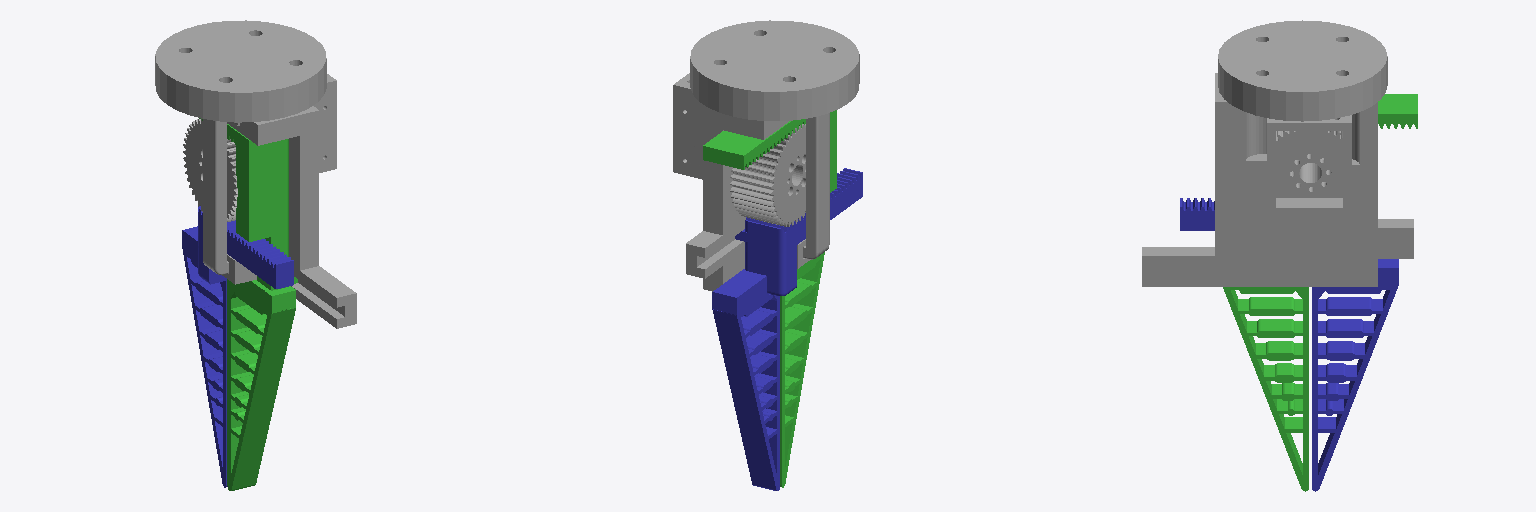
URDF robot description (lite6):
<?xml version="1.0"?>
<robot name="lite6">

    <material name="White">
      <color rgba="1.0 1.0 1.0 1.0"/>
    </material>

    <material name="Silver">
      <color rgba="0.753 0.753 0.753 1.0"/>
    </material>

    <link name="link_base">
      <inertial>
        <origin
          xyz="-0.00829544579053192 3.26357432323433E-05 0.0631194584987089"
          rpy="0 0 0" />
        <mass
          value="2.11" />
        <inertia
          ixx="0"
          ixy="0"
          ixz="0"
          iyy="0"
          iyz="0"
          izz="0" />
      </inertial>
      <visual>
        <origin
          xyz="0 0 0"
          rpy="0 0 0" />
        <geometry>
          <mesh filename="meshes/lite6/visual/link_base.stl"/>
        </geometry>
        <material name="White" />
      </visual>
      <collision>
        <origin
          xyz="0 0 0"
          rpy="0 0 0" />
        <geometry>
          <mesh filename="meshes/lite6/collision/link_base.stl"/>
        </geometry>
      </collision>
    </link>
    <link name="link1">
      <inertial>
        <origin
          xyz="-0.00036 0.042 -0.0025"
          rpy="0 0 0" />
        <mass
          value="1.411" />
        <inertia
          ixx="1.45164E-03"
          ixy="1.24E-05"
          ixz="-6.7E-06"
          iyy="8.873E-04"
          iyz="1.255E-04"
          izz="1.31993E-03" />
      </inertial>
      <visual>
        <origin
          xyz="0 0 0"
          rpy="0 0 0" />
        <geometry>
          <mesh filename="meshes/lite6/visual/link1.stl"/>
        </geometry>
        <material name="White" />
      </visual>
      <collision>
        <origin
          xyz="0 0 0"
          rpy="0 0 0" />
        <geometry>
          <mesh filename="meshes/lite6/collision/link1.stl"/>
        </geometry>
      </collision>
    </link>
    <joint name="joint1" type="revolute">
      <origin
        xyz="0 0 0.2433"
        rpy="0 0 0" />
      <parent
        link="link_base" />
      <child
        link="link1" />
      <axis
        xyz="0 0 1" />
      <limit
        lower="-6.28"
        upper="6.28"
        effort="32.0"
        velocity="3.14"/>
      <dynamics damping="1.0" friction="1.0"/>
    </joint>
    <link name="link2">
      <inertial>
        <origin
          xyz="0.179 0.0 0.0584"
          rpy="0 0 0" />
        <mass
          value="1.34" />
        <inertia
          ixx="1.5854E-03"
          ixy="-6.766E-06"
          ixz="-1.15136E-03"
          iyy="5.6097E-03"
          iyz="1.14E-06"
          izz="4.85E-03" />
      </inertial>
      <visual>
        <origin
          xyz="0 0 0"
          rpy="0 0 0" />
        <geometry>
          <mesh filename="meshes/lite6/visual/link2.stl"/>
        </geometry>
        <material name="White" />
      </visual>
      <collision>
        <origin
          xyz="0 0 0"
          rpy="0 0 0" />
        <geometry>
          <mesh filename="meshes/lite6/collision/link2.stl"/>
        </geometry>
      </collision>
    </link>
    <joint name="joint2" type="revolute">
      <origin
        xyz="0 0 0"
        rpy="1.5708 -1.5708 3.1416" />
      <parent
        link="link1" />
      <child
        link="link2" />
      <axis
        xyz="0 0 1" />
      <limit
        lower="-2.61799"
        upper="2.61799"
        effort="32.0"
        velocity="3.14"/>
      <dynamics damping="1.0" friction="1.0"/>
    </joint>
    <link name="link3">
      <inertial>
        <origin
          xyz="0.072 -0.036 -0.001"
          rpy="0 0 0" />
        <mass
          value="0.953" />
        <inertia
          ixx="8.861E-04"
          ixy="-3.9287E-04"
          ixz="7.066E-05"
          iyy="1.5785E-03"
          iyz="-2.445E-05"
          izz="1.84677E-03" />
      </inertial>
      <visual>
        <origin
          xyz="0 0 0"
          rpy="0 0 0" />
        <geometry>
          <mesh filename="meshes/lite6/visual/link3.stl"/>
        </geometry>
        <material name="White" />
      </visual>
      <collision>
        <origin
          xyz="0 0 0"
          rpy="0 0 0" />
        <geometry>
          <mesh filename="meshes/lite6/collision/link3.stl"/>
        </geometry>
      </collision>
    </link>
    <joint name="joint3" type="revolute">
      <origin
        xyz="0.2 0 0"
        rpy="-3.1416 0 1.5708" />
      <parent
        link="link2" />
      <child
        link="link3" />
      <axis
        xyz="0 0 1" />
      <limit
        lower="-0.061087"
        upper="5.235988"
        effort="18.0"
        velocity="3.14"/>
      <dynamics damping="1.0" friction="1.0"/>
    </joint>
    <link name="link4">
      <inertial>
        <origin
          xyz="-0.002 -0.0285 -0.0813"
          rpy="0 0 0" />
        <mass
          value="1.284" />
        <inertia
          ixx="3.705E-03"
          ixy="-2.0E-06"
          ixz="7.17E-06"
          iyy="3.0455E-03"
          iyz="-9.3188E-04"
          izz="1.5413E-03" />
      </inertial>
      <visual>
        <origin
          xyz="0 0 0"
          rpy="0 0 0" />
        <geometry>
          <mesh filename="meshes/lite6/visual/link4.stl"/>
        </geometry>
        <material name="White" />
      </visual>
      <collision>
        <origin
          xyz="0 0 0"
          rpy="0 0 0" />
        <geometry>
          <mesh filename="meshes/lite6/collision/link4.stl"/>
        </geometry>
      </collision>
    </link>
    <joint name="joint4" type="revolute">
      <origin
        xyz="0.087 -0.2276 0"
        rpy="1.5708 0 0" />
      <parent
        link="link3" />
      <child
        link="link4" />
      <axis
        xyz="0 0 1" />
      <limit
        lower="-6.28"
        upper="6.28"
        effort="2.5"
        velocity="3.14"/>
      <dynamics damping="0.1" friction="0.1"/>
    </joint>
    <link name="link5">
      <inertial>
        <origin
          xyz="0.0 0.010 0.0019"
          rpy="0 0 0" />
        <mass
          value="0.804" />
        <inertia
          ixx="5.668E-04"
          ixy="6E-07"
          ixz="-5.3E-06"
          iyy="5.077E-04"
          iyz="-4.8E-07"
          izz="5.3E-04" />
      </inertial>
      <visual>
        <origin
          xyz="0 0 0"
          rpy="0 0 0" />
        <geometry>
          <mesh filename="meshes/lite6/visual/link5.stl"/>
        </geometry>
        <material name="White" />
      </visual>
      <collision>
        <origin
          xyz="0 0 0"
          rpy="0 0 0" />
        <geometry>
          <mesh filename="meshes/lite6/collision/link5.stl"/>
        </geometry>
      </collision>
    </link>
    <joint name="joint5" type="revolute">
      <origin
        xyz="0 0 0"
        rpy="1.5708 0 0" />
      <parent
        link="link4" />
      <child
        link="link5" />
      <axis
        xyz="0 0 1" />
      <limit
        lower="-2.1642"
        upper="2.1642"
        effort="2.5"
        velocity="3.14"/>
      <dynamics damping="0.1" friction="0.1"/>
    </joint>
    <link name="link6">
      <inertial>
        <origin
          xyz="0.0 -0.00194 -0.0102"
          rpy="0 0 0" />
        <mass
          value="0.180" />
        <inertia
          ixx="7.726E-05"
          ixy="1E-06"
          ixz="4E-07"
          iyy="8.5665E-05"
          iyz="-6E-07"
          izz="1.4814E-04" />
      </inertial>
      <visual>
        <origin
          xyz="0 0 0"
          rpy="0 0 0" />
        <geometry>
          <mesh filename="meshes/lite6/visual/link6.stl"/>
        </geometry>
        <material name="White" />
      </visual>
      <collision>
        <origin
          xyz="0 0 0"
          rpy="0 0 0" />
        <geometry>
          <mesh filename="meshes/lite6/collision/link6.stl"/>
        </geometry>
      </collision>
    </link>
    <joint name="joint6" type="revolute">
      <origin
        xyz="0 0.0615 0"
        rpy="-1.5708 0 0" />
      <parent
        link="link5" />
      <child
        link="link6" />
      <axis
        xyz="0 0 1" />
      <limit
        lower="-6.28"
        upper="6.28"
        effort="2.5"
        velocity="3.14"/>
      <dynamics damping="0.1" friction="0.1"/>
    </joint>

    <link name="link_eef"/>

    <joint
      name="joint_eef"
      type="fixed">
      <origin
        xyz="0 0 0"
        rpy="0 0 0" />
      <parent
        link="link6" />
      <child
        link="link_eef" />
    </joint>
    
    <!-- =================== Gripper starts here =================== -->

    <joint name="arm_to_gripper_base_joint" type="fixed">
      <parent link="link_eef"/>
      <child link="base_link"/>
     <!-- <origin xyz="0 0 0" rpy="0 0 -1.5708"/> -->
      <origin xyz="0 0 0.02" rpy="1.5708 0 -1.5708"/>
    </joint>
    
  <!-- Base -->
  <link name="base_link">
    <inertial>
        <mass value="0.2"/> <origin xyz="0 0 0.02" rpy="0 0 0"/>
        <inertia ixx="0.001" ixy="0" ixz="0" iyy="0.001" iyz="0" izz="0.001"/> </inertial>
    <visual>
      <geometry>
        <mesh filename="base.stl" scale="1 1 1"/>
      </geometry>
      <material name="gray">
        <color rgba="0.7 0.7 0.7 1"/>
      </material>
    </visual>
    <collision>
      <geometry>
        <mesh filename="base.stl" scale="1 1 1"/>
      </geometry>
    </collision>
  </link>
  
  <!-- Left finger -->
  <link name="left_finger">
     <inertial>
        <mass value="0.05"/> <origin xyz="0 0 0" rpy="0 0 0"/>
        <inertia ixx="0.0001" ixy="0" ixz="0" iyy="0.0001" iyz="0" izz="0.0001"/> </inertial>
    <visual>
      <geometry>
        <mesh filename="left.stl" scale="1 1 1"/>
      </geometry>
      <material name="blue">
        <color rgba="0.3 0.3 0.8 1"/>
      </material>
    </visual>
    <collision>
      <geometry>
        <mesh filename="left.stl" scale="1 1 1"/>
      </geometry>
    </collision>
  </link>
  <joint name="left_finger_joint" type="prismatic">
    <parent link="base_link"/>
    <child link="left_finger"/>
    <!-- <origin xyz="0 0.025 0" rpy="0 0 0"/> -->
    <axis xyz="-1 0 0"/> <limit lower="-1000" upper="1000" effort="1000" velocity="1000"/>
  </joint>
  
  
  <!-- Right finger -->
  <link name="right_finger">
    <inertial>
        <mass value="0.05"/> <origin xyz="0 0 0" rpy="0 0 0"/>
        <inertia ixx="0.0001" ixy="0" ixz="0" iyy="0.0001" iyz="0" izz="0.0001"/> </inertial>
    <visual>
      <geometry>
        <mesh filename="right.stl" scale="1 1 1"/>
      </geometry>
      <material name="green">
        <color rgba="0.3 0.8 0.3 1"/>
      </material>
    </visual>
    <collision>
      <geometry>
        <mesh filename="right.stl" scale="1 1 1"/>
      </geometry>
    </collision>
  </link>
  <joint name="right_finger_joint" type="prismatic">
    <parent link="base_link"/>
    <child link="right_finger"/>
    <!-- <origin xyz="0 -0.025 0" rpy="0 0 0"/> -->
     <axis xyz="1 0 0"/> <limit lower="-1000" upper="1000" effort="1000" velocity="1000"/>
      <mimic joint="left_finger_joint" multiplier="1" offset="0"/>
  </joint>

</robot>

--- Render facts (derived) ---
3 views of the same robot in one strip: view 1: azimuth 30°, elevation 25°; view 2: azimuth 150°, elevation 25°; view 3: azimuth 270°, elevation 25° (orthographic).
Model lite6 with 11 links and 10 joints (6 revolute, 2 prismatic, 2 fixed), rooted at link_base, posed every joint at zero.
Visible links, largest first — view 1: base_link, right_finger, left_finger; view 2: base_link, left_finger, right_finger; view 3: base_link, left_finger, right_finger.
Link boxes in pixels (x1,y1,x2,y2): base_link: [155, 20, 356, 328]; right_finger: [199, 118, 297, 490]; left_finger: [182, 206, 293, 487]; base_link: [673, 20, 859, 291]; left_finger: [712, 168, 862, 490]; right_finger: [703, 110, 836, 487]; base_link: [1142, 20, 1413, 286]; left_finger: [1180, 198, 1398, 491]; right_finger: [1223, 94, 1417, 491].
Bounding box of the posed robot: 0.0769 × 0.122 × 0.2088 m (x, y, z).
Meshes: 10 distinct files referenced, 3 mesh visuals loaded (3 binary STL); not drawn: 7 (reference not matched to a file when rendering).